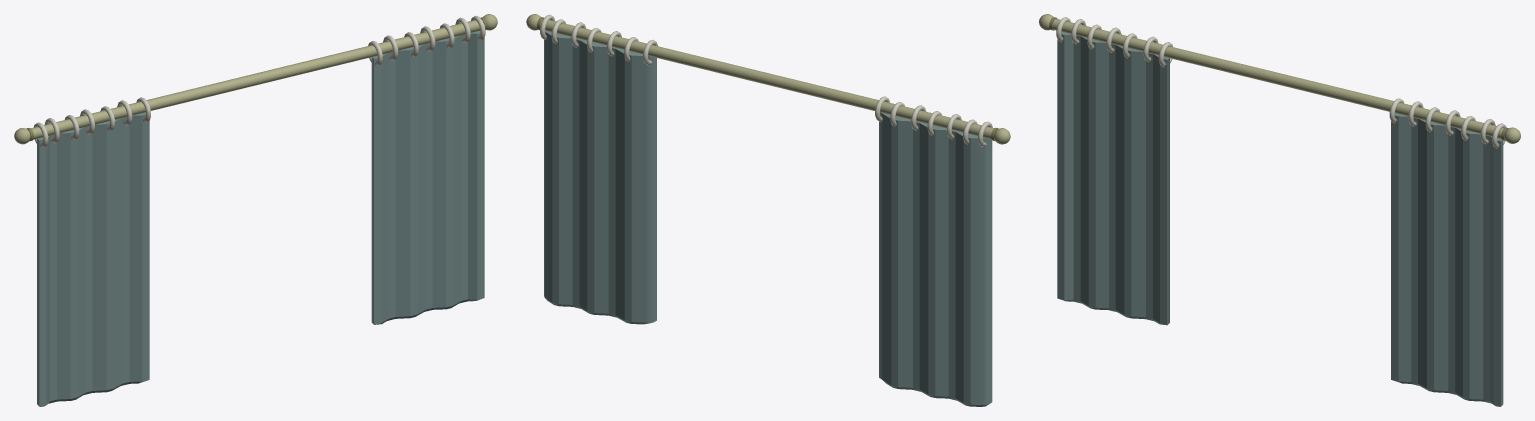
The model's file is Curtains.fbx.
3 views of the same model, side by side, from view 1: azimuth 30°, elevation 25°; view 2: azimuth 150°, elevation 25°; view 3: azimuth 330°, elevation 25° (orthographic).
Parts seen in each view (by area): view 1: CurtainRight_ADJUSTABLE, CurtainLeft_ADJUSTABLE, CurtainRod_ADJUSTABLE, RingsRight, RingsLeft; view 2: CurtainLeft_ADJUSTABLE, CurtainRight_ADJUSTABLE, CurtainRod_ADJUSTABLE, RingsLeft, RingsRight; view 3: CurtainLeft_ADJUSTABLE, CurtainRight_ADJUSTABLE, CurtainRod_ADJUSTABLE, RingsRight, RingsLeft.
Boxes of the visible parts, <box> form: CurtainRight_ADJUSTABLE: <box>371,31,484,324</box>; CurtainLeft_ADJUSTABLE: <box>37,112,149,406</box>; CurtainRod_ADJUSTABLE: <box>31,20,482,139</box>; RingsRight: <box>368,15,485,66</box>; RingsLeft: <box>33,97,150,148</box>; CurtainLeft_ADJUSTABLE: <box>879,112,992,406</box>; CurtainRight_ADJUSTABLE: <box>544,31,656,324</box>; CurtainRod_ADJUSTABLE: <box>540,19,993,139</box>; RingsLeft: <box>875,96,992,146</box>; RingsRight: <box>540,14,657,65</box>; CurtainLeft_ADJUSTABLE: <box>1057,32,1169,325</box>; CurtainRight_ADJUSTABLE: <box>1391,113,1503,406</box>; CurtainRod_ADJUSTABLE: <box>1052,18,1503,138</box>; RingsRight: <box>1389,98,1506,148</box>; RingsLeft: <box>1056,17,1173,67</box>.
Bounding box in the file's own units: 303 × 170 × 15.77.
